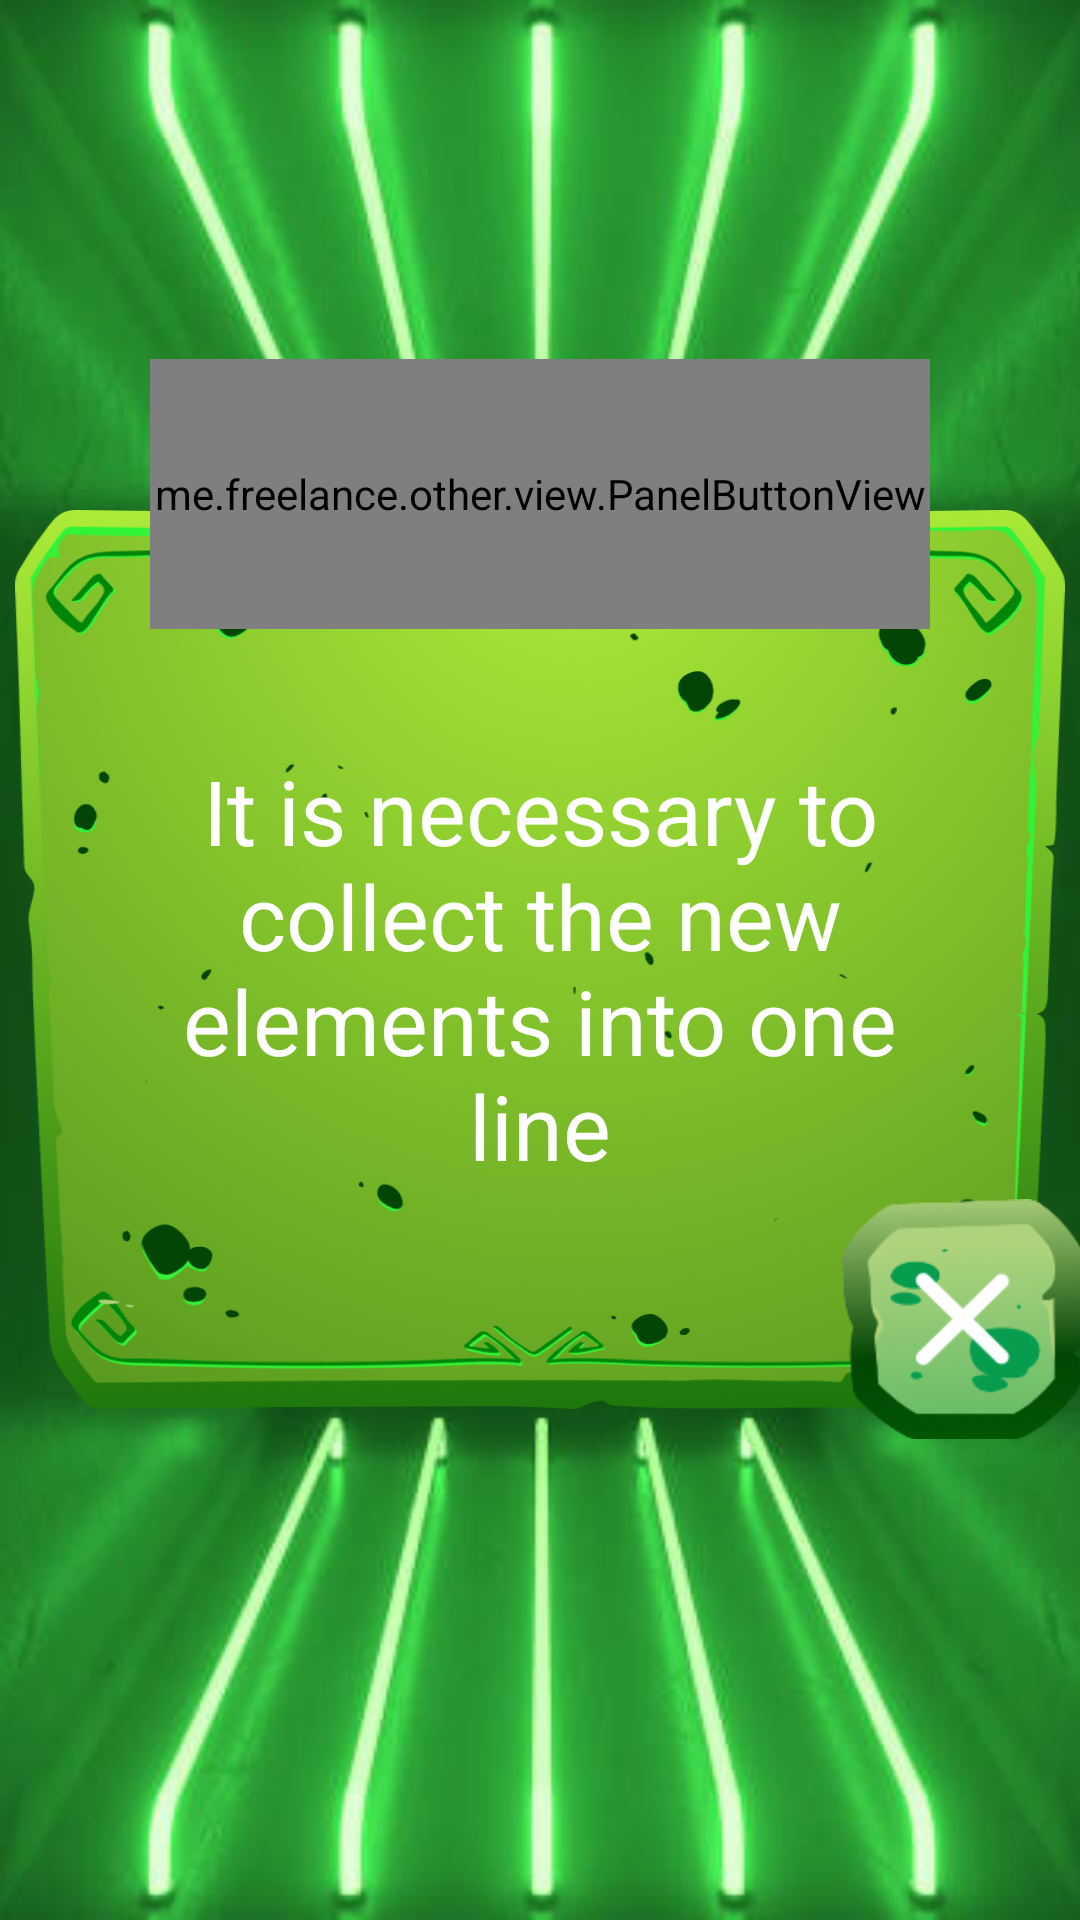

Named icons in this screenshot (1080px×1920px) and their centers, (x,y):
exit: (961,1319)
